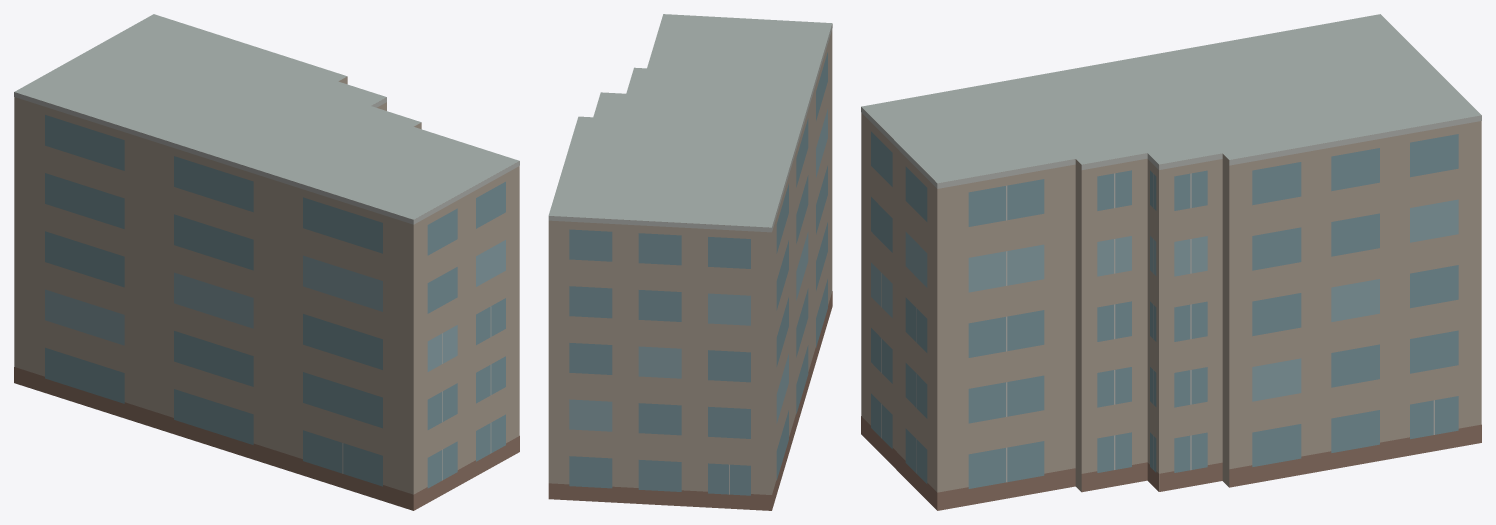
Rendered from survey-upis-32905826.glb.
3 renders of one model, left to right at view 1: azimuth 30°, elevation 25°; view 2: azimuth 150°, elevation 25°; view 3: azimuth 270°, elevation 25°, orthographic. The views are drawn at different scales.
Parts seen in each view (by area): view 1: survey-upis-32905826.tmp; view 2: survey-upis-32905826.tmp; view 3: survey-upis-32905826.tmp.
Boxes of the visible parts, x1,y1,x2,y2 form: survey-upis-32905826.tmp: [14, 14, 519, 510]; survey-upis-32905826.tmp: [548, 14, 832, 510]; survey-upis-32905826.tmp: [861, 14, 1481, 510].
Bounding box in the file's own units: 15.98 × 14.4 × 24.74.
